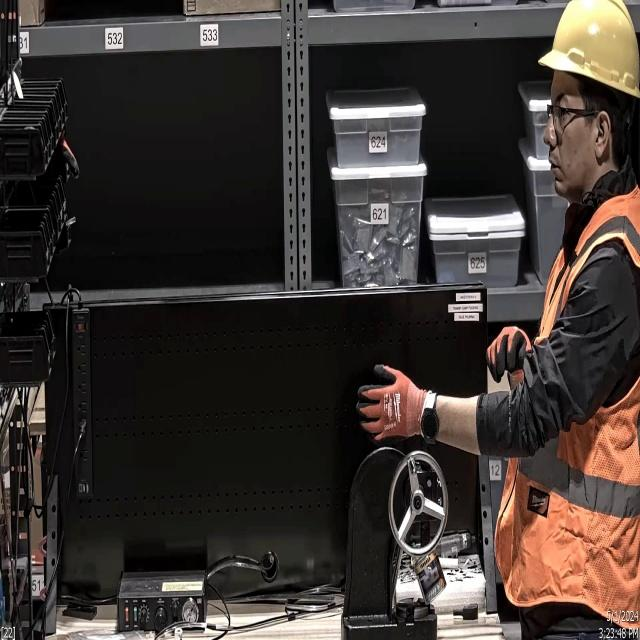construction-gloves: (352, 356, 432, 448), (482, 326, 534, 386)
